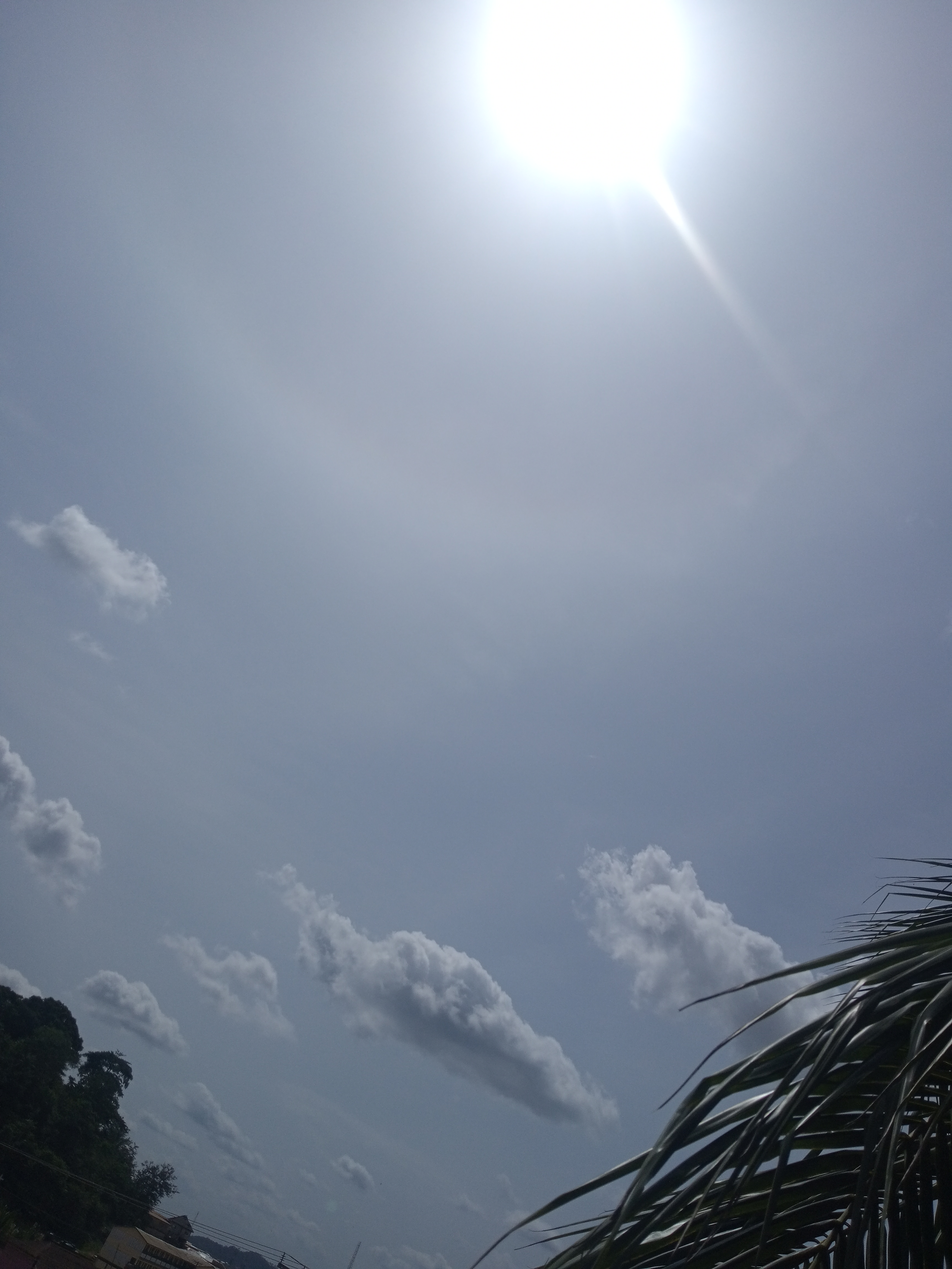sun: (390, 7, 764, 275)
